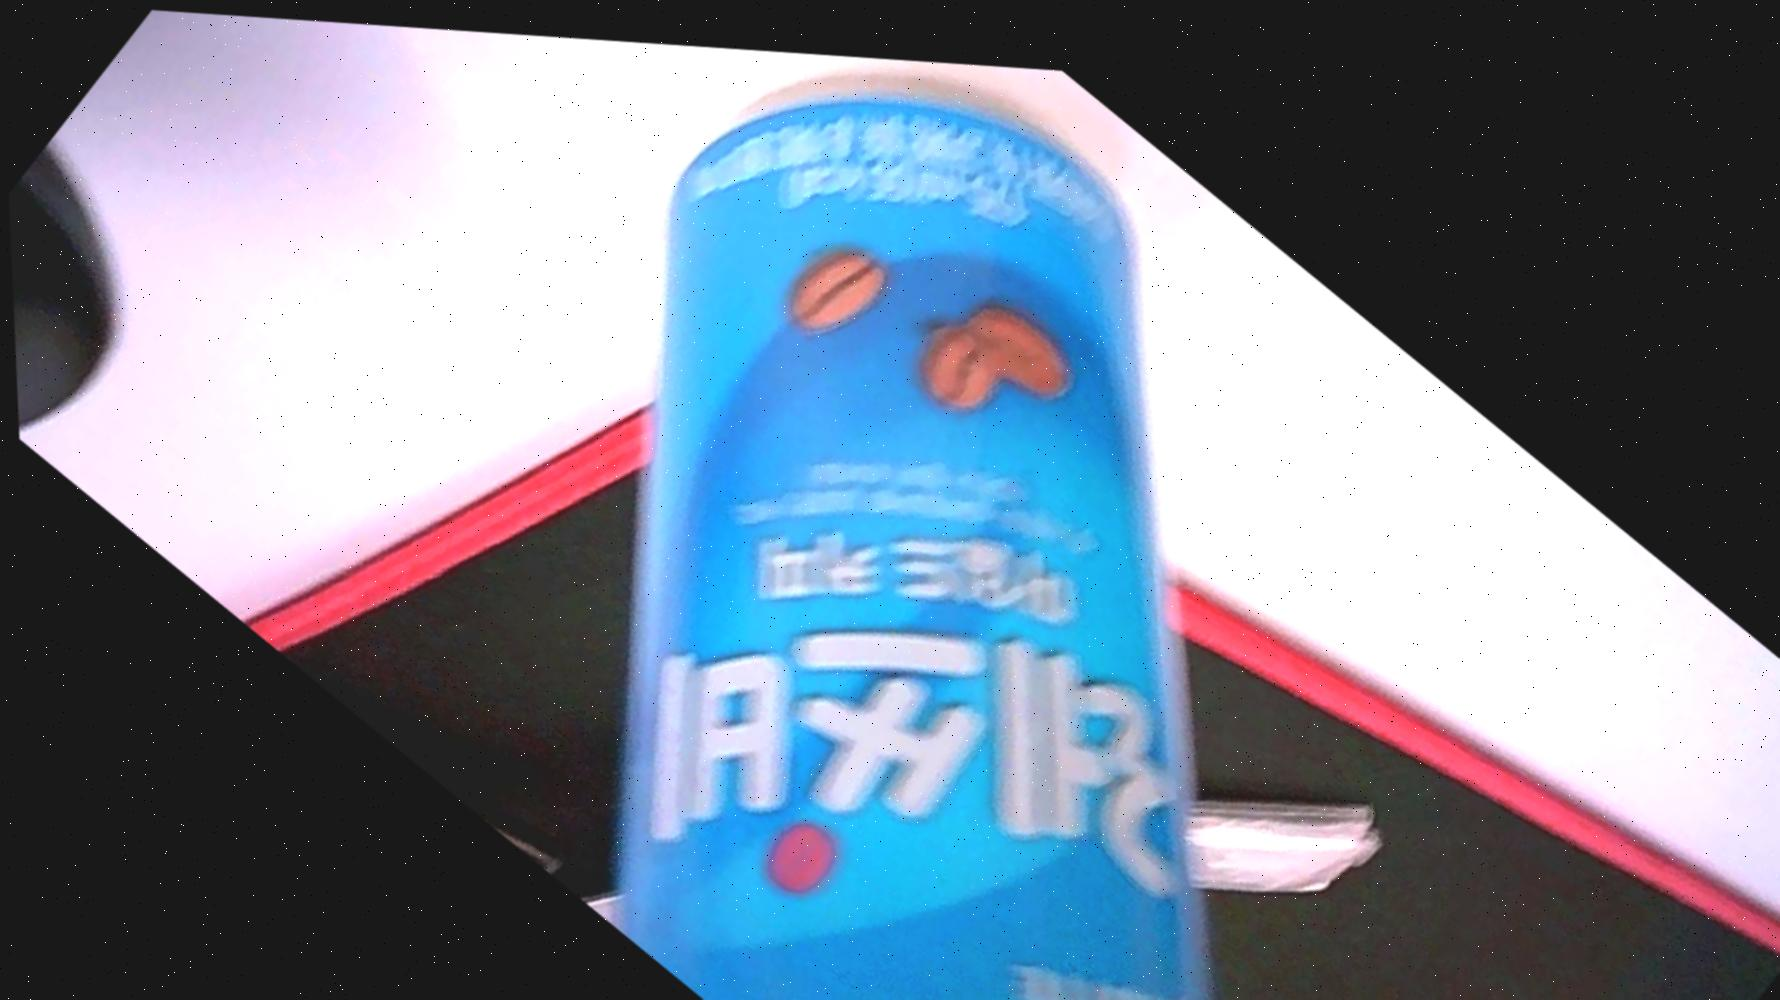letsbe: (267, 13, 1668, 1000)
